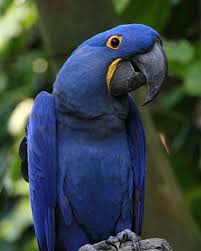guacamaya: (17, 22, 170, 251)
